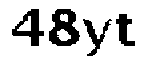4: (9, 7, 45, 49)
8: (50, 6, 81, 47)
t: (115, 12, 139, 50)
y: (82, 17, 114, 59)
